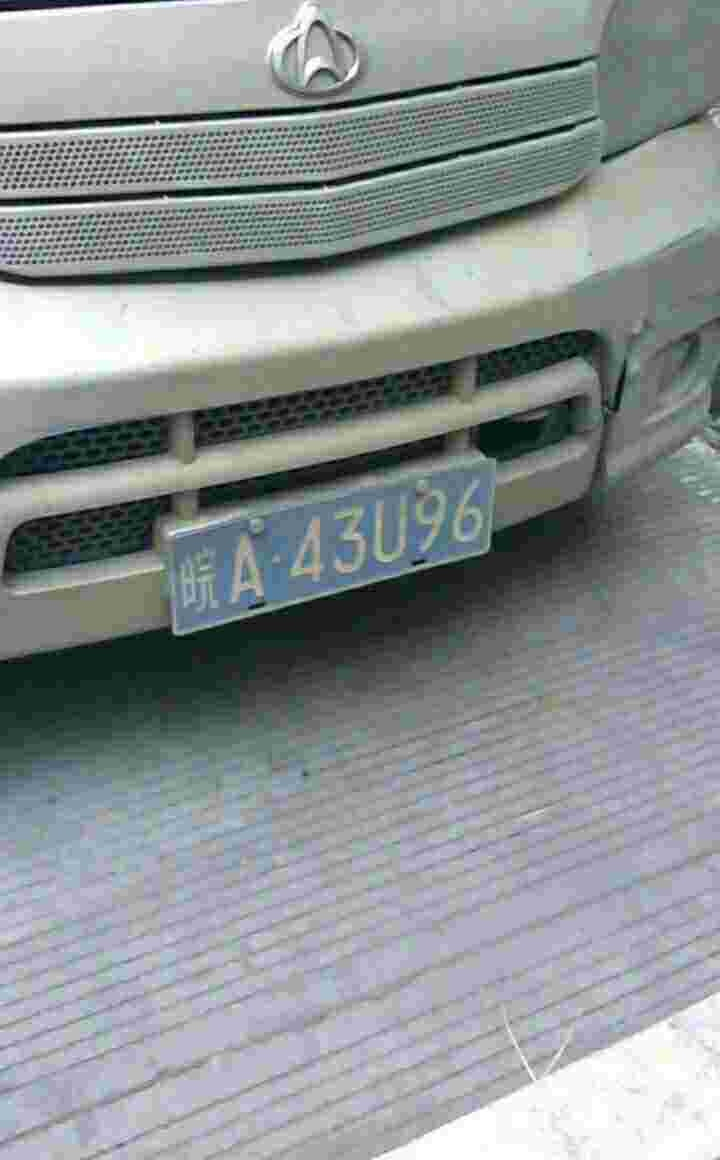license_plate: (175, 472, 499, 619)
